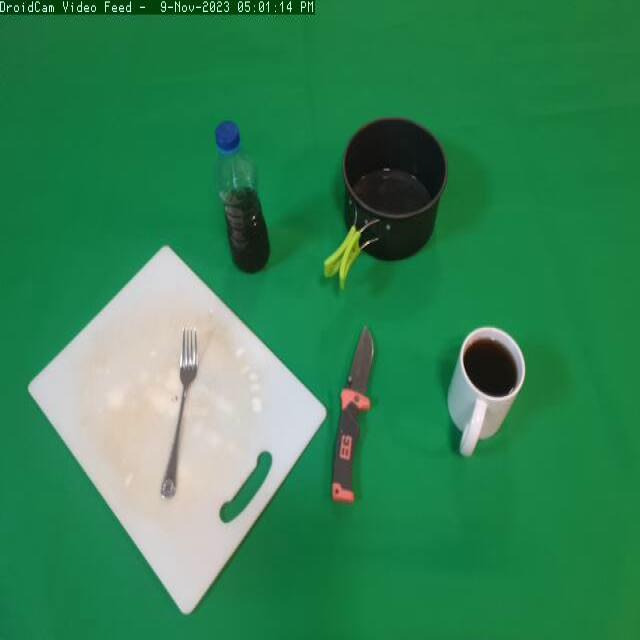cutting board: (18, 241, 331, 621)
fork: (155, 320, 214, 508)
fullbottle: (204, 114, 294, 304)
fullcup: (439, 317, 531, 476)
knife: (321, 326, 400, 518)
pot: (316, 110, 458, 294)
